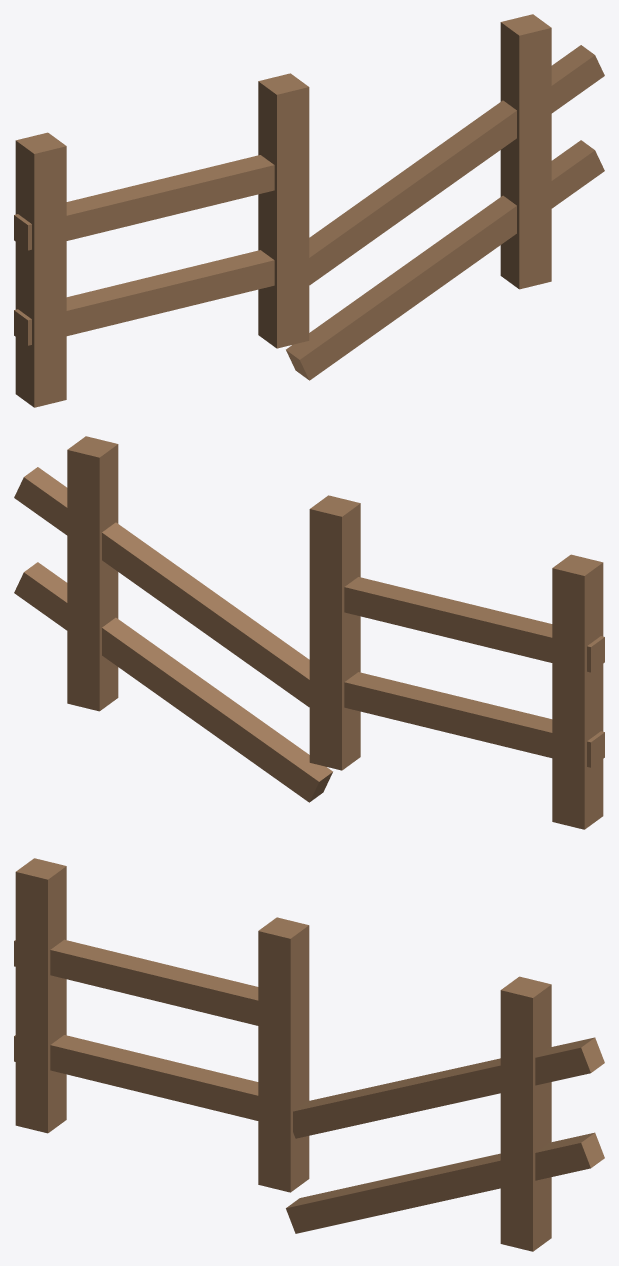
Rendered from fence_broken.glb.
The picture shows the model from 3 angles, top to bottom: view 1: azimuth 30°, elevation 25°; view 2: azimuth 150°, elevation 25°; view 3: azimuth 330°, elevation 25°; orthographic projection.
Visible parts, largest first — view 1: fence_broken; view 2: fence_broken; view 3: fence_broken.
Boxes of the visible parts, x1,y1,x2,y2 form: fence_broken: [14, 14, 604, 407]; fence_broken: [14, 436, 604, 829]; fence_broken: [14, 858, 604, 1251].
Size of the model in its own units: 2.86 by 1.4 by 0.16.
